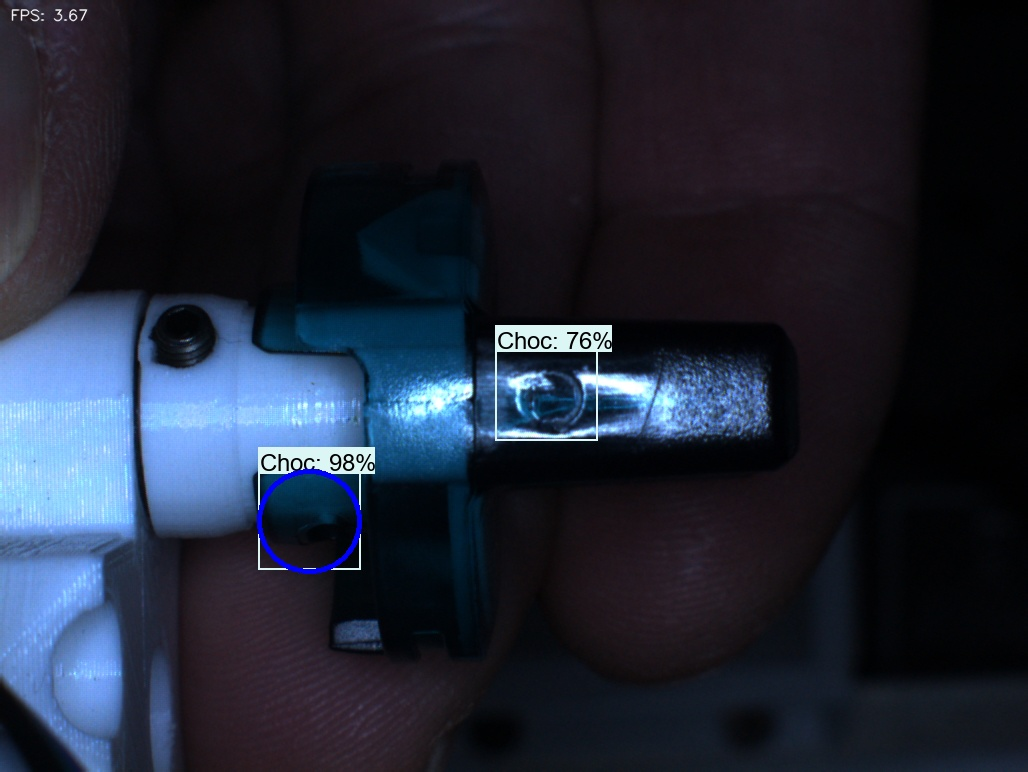DentOk: (331, 202, 402, 282)
